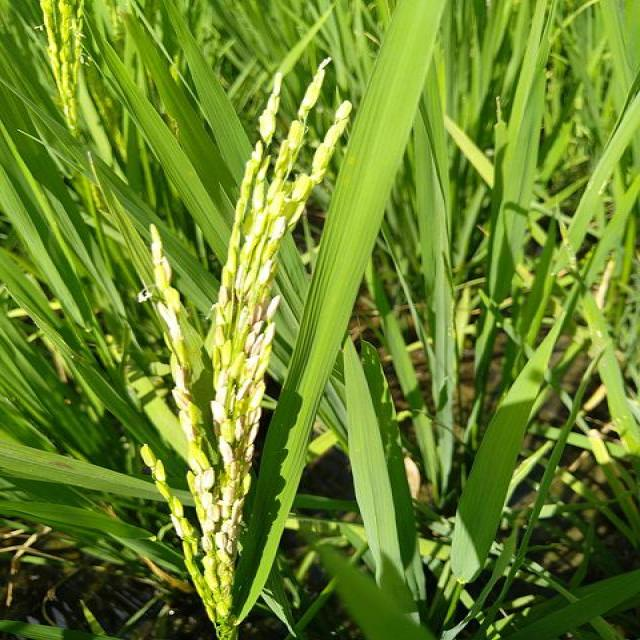Panicle Blight: (213, 500, 243, 558), (244, 304, 267, 358)
